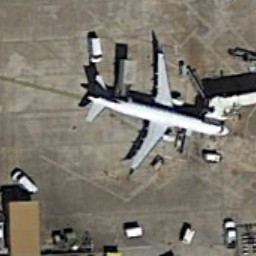Airplane: (53, 37, 235, 176)
